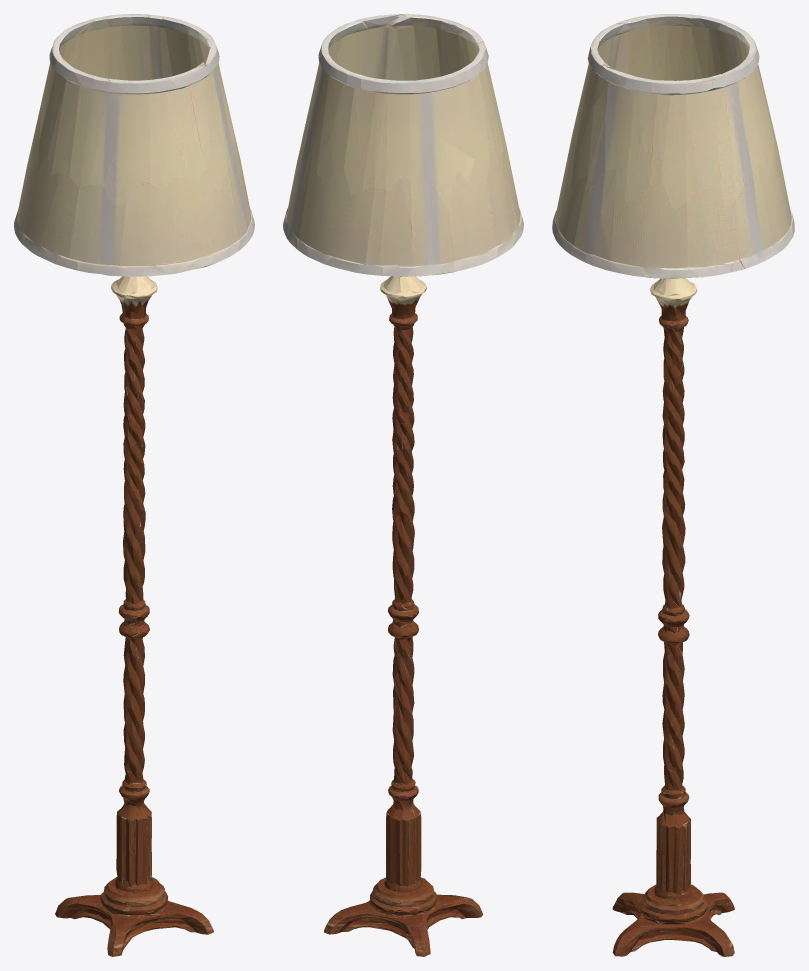
File: floor_lamp.glb
The picture shows the model from 3 angles, left to right: view 1: azimuth 30°, elevation 25°; view 2: azimuth 150°, elevation 25°; view 3: azimuth 270°, elevation 25°; orthographic projection.
Bounding box in the file's own units: 0.4732 × 1.9 × 0.473.
Materials: 1 (1 with a texture image).
